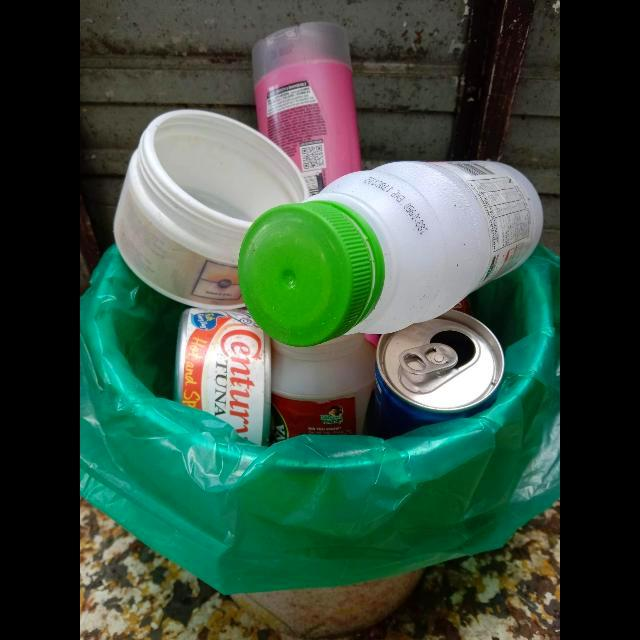aluminum: (364, 308, 504, 441), (174, 304, 271, 445)
plastic_bottle: (239, 160, 543, 348), (115, 110, 311, 308), (252, 21, 363, 195)
